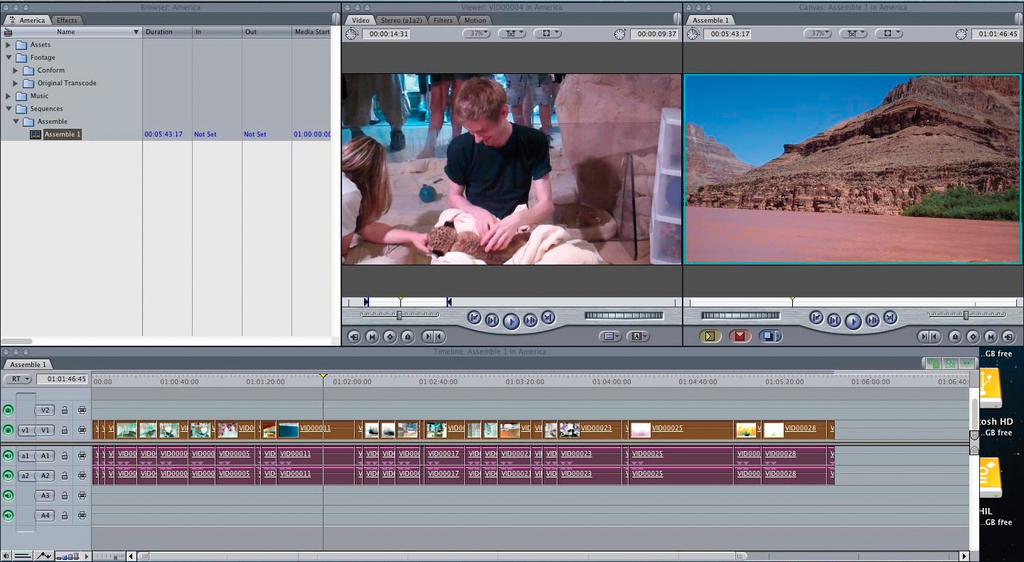Person: (341, 72, 603, 264)
